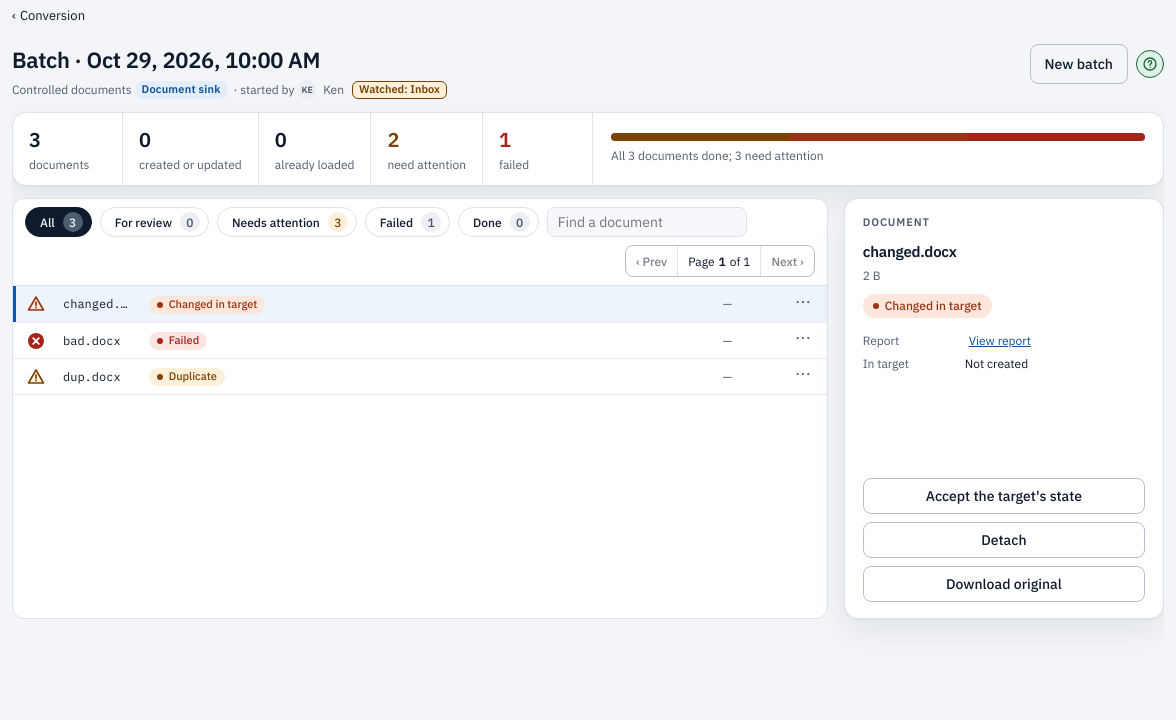
Test: a watched folder batch › hides re-run, force-load, redeliver and load-as-new, but keeps detach
Expected: the text "Watched: Inbox" is shown, [352, 81, 447, 99]
Click the button "changed.docx" at point(96, 304), box [63, 295, 129, 313]
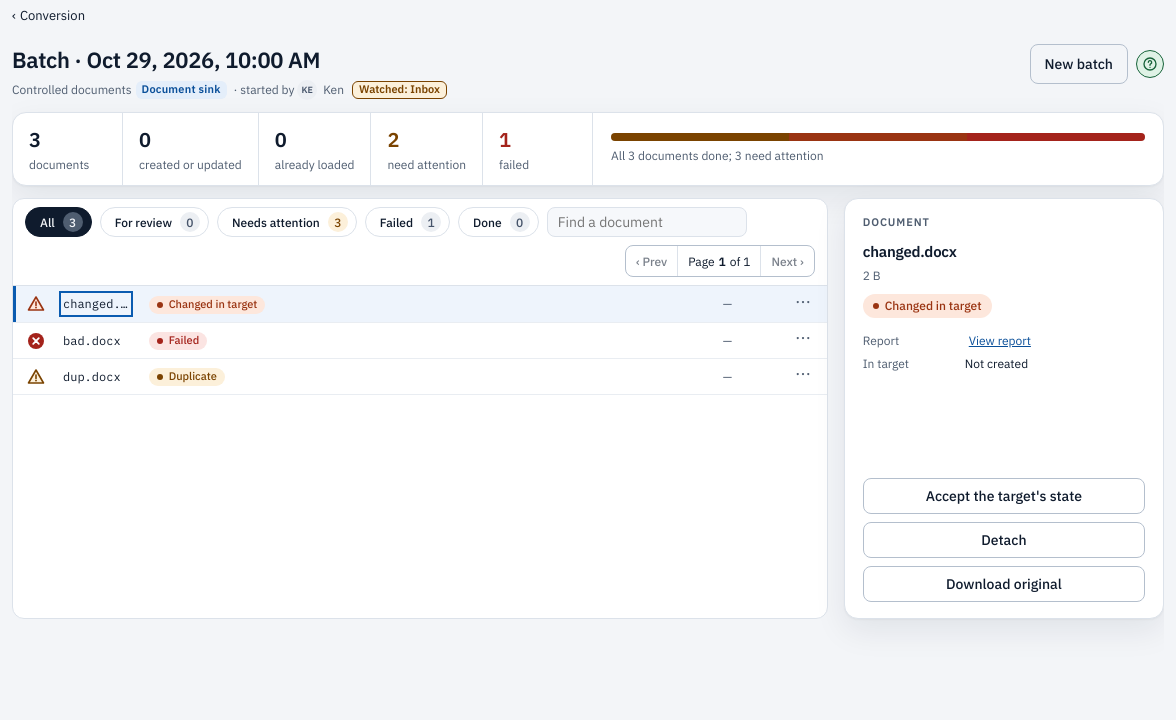
Expected: the button with aria-label "Detach changed.docx" is shown, [863, 522, 1145, 558]
Click the button "bad.docx" at point(92, 340), box [63, 332, 121, 349]
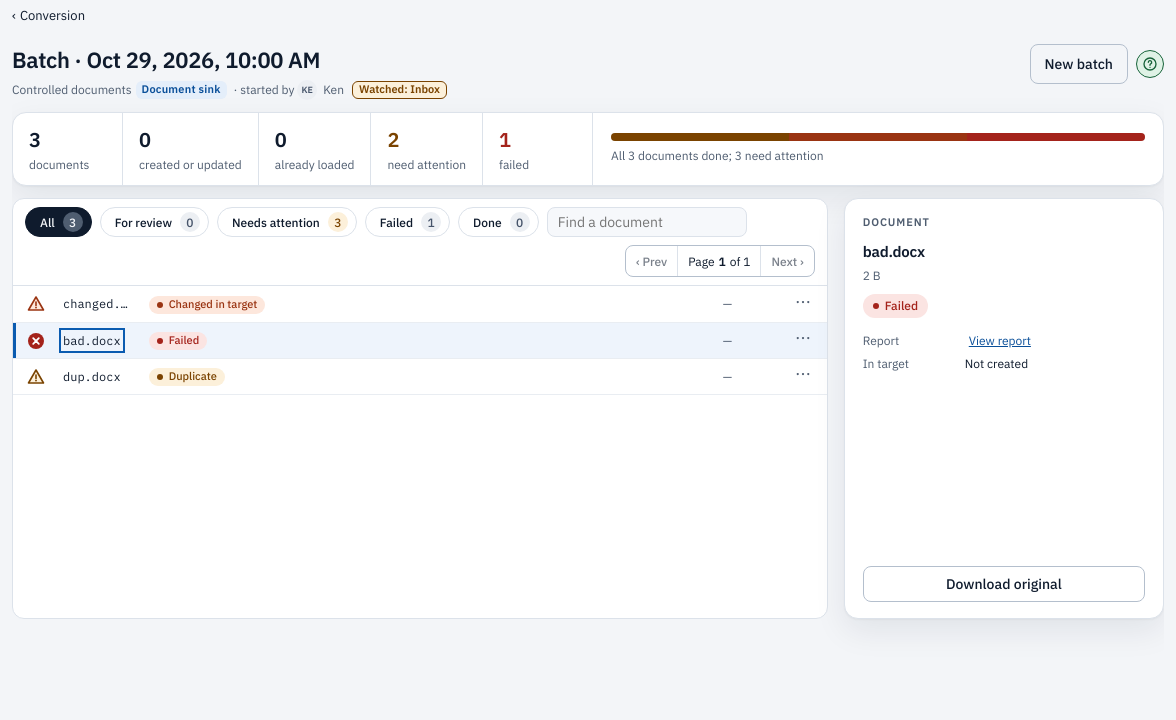
Click the button "dup.docx" at point(92, 376), box [63, 368, 121, 385]
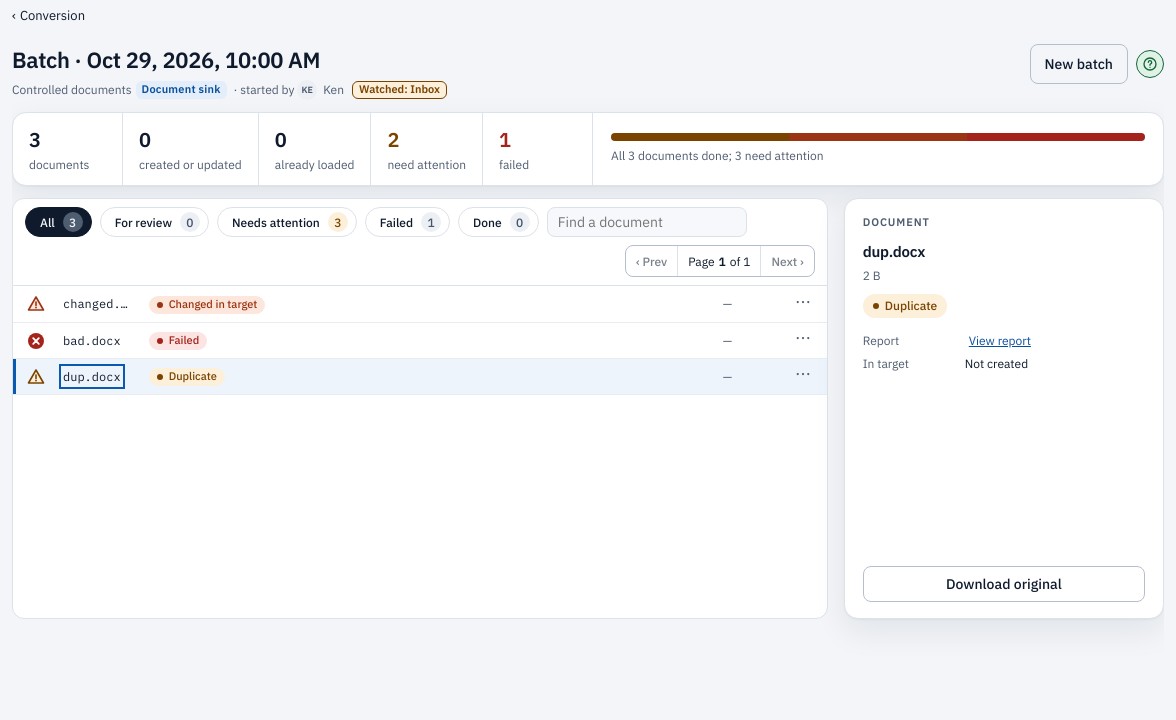
Click the button named "Actions for bad.docx" at point(803, 338), box [783, 324, 823, 352]
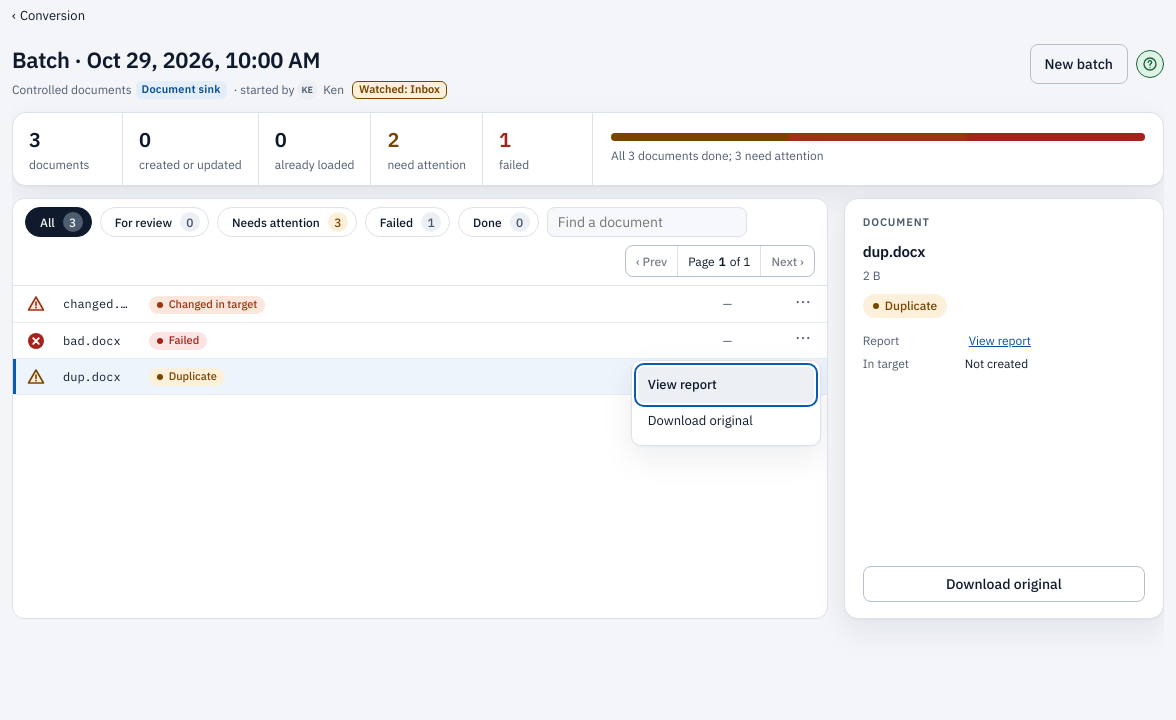
Result: the menu item "View report" is shown at [638, 368, 814, 404]
